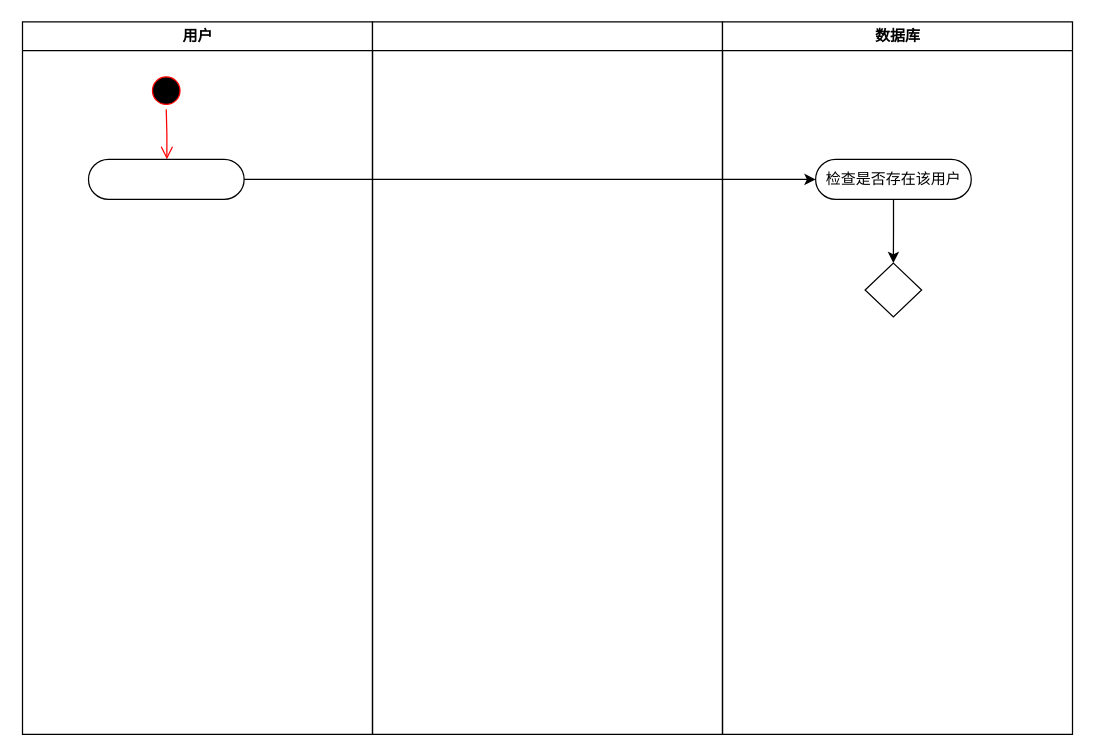
This 1094x756 diagram has some shape labels left out. The shapes that lost their labels are listed below. From the top down, each one's centre as x and y in pixels, then its label:
At point (165, 178): "输入用户名密码登录".
At point (546, 377): "登录/注册页面".
